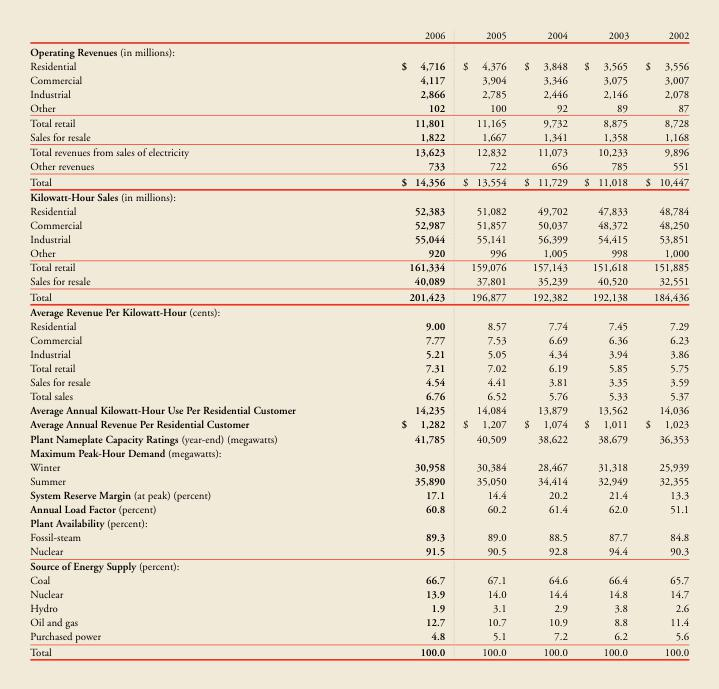table: (29, 29, 688, 657)
table column: (29, 29, 347, 657), (347, 29, 453, 657), (453, 29, 514, 657), (514, 29, 575, 657), (575, 29, 636, 657), (636, 29, 688, 657)
table column header: (29, 29, 688, 42)
table projected row header: (29, 42, 688, 58), (29, 558, 688, 573), (29, 189, 688, 203), (29, 304, 688, 318), (29, 445, 688, 459), (29, 515, 688, 529)
table row: (29, 42, 688, 58), (29, 173, 688, 189), (29, 288, 688, 304), (29, 100, 688, 115), (29, 129, 688, 144), (29, 144, 688, 159), (29, 217, 688, 232), (29, 346, 688, 361), (29, 543, 688, 558), (29, 558, 688, 573), (29, 58, 688, 72), (29, 72, 688, 86), (29, 86, 688, 100), (29, 115, 688, 129), (29, 159, 688, 173), (29, 189, 688, 203), (29, 203, 688, 217), (29, 232, 688, 246), (29, 246, 688, 260), (29, 260, 688, 274), (29, 274, 688, 288), (29, 304, 688, 318), (29, 318, 688, 332), (29, 332, 688, 346), (29, 361, 688, 375), (29, 375, 688, 389), (29, 389, 688, 403), (29, 403, 688, 417), (29, 417, 688, 431), (29, 431, 688, 445), (29, 445, 688, 459), (29, 459, 688, 473), (29, 473, 688, 487), (29, 487, 688, 501), (29, 501, 688, 515), (29, 515, 688, 529), (29, 529, 688, 543), (29, 573, 688, 587), (29, 587, 688, 601), (29, 601, 688, 615), (29, 615, 688, 629), (29, 629, 688, 643), (29, 643, 688, 657), (29, 29, 688, 42)
